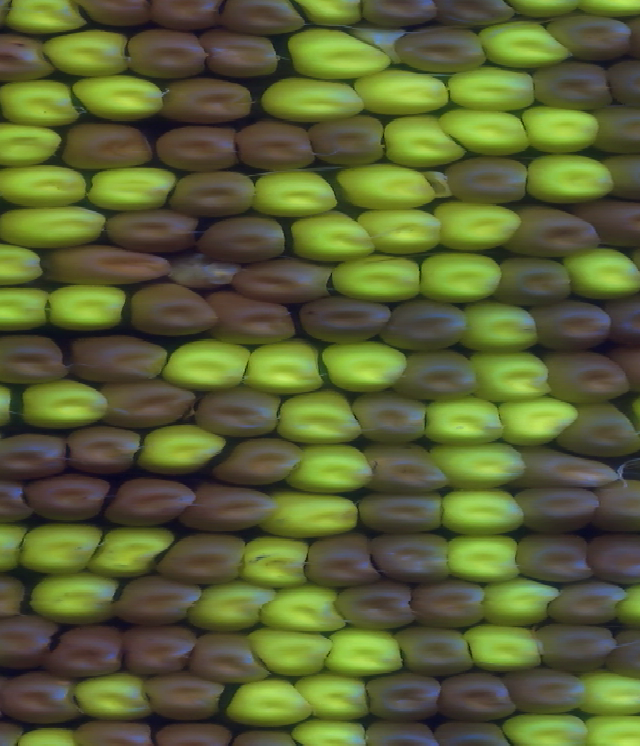fluorescent: (14, 380, 118, 434), (335, 159, 439, 212), (425, 437, 533, 488), (283, 209, 384, 263), (241, 337, 329, 396), (349, 206, 450, 255), (162, 335, 259, 386), (290, 28, 392, 76), (383, 114, 473, 168), (246, 169, 343, 219), (464, 621, 549, 678), (441, 106, 529, 161), (71, 72, 164, 124), (0, 205, 108, 249), (0, 158, 91, 210), (521, 154, 617, 203), (432, 200, 523, 251), (89, 525, 174, 579), (268, 486, 362, 534), (358, 68, 456, 114), (329, 252, 422, 300), (292, 443, 381, 493), (324, 340, 413, 390), (279, 394, 364, 446), (139, 424, 229, 473), (419, 248, 506, 298), (456, 300, 543, 350), (496, 395, 581, 446), (438, 493, 531, 539), (39, 286, 132, 332), (30, 571, 116, 620), (424, 396, 509, 445), (436, 532, 521, 581), (471, 350, 554, 400), (89, 167, 181, 212), (520, 105, 604, 154), (244, 533, 316, 589), (326, 626, 408, 675), (254, 626, 334, 676), (189, 582, 268, 632), (230, 681, 314, 728), (259, 584, 347, 628), (74, 675, 160, 719), (44, 34, 131, 77), (24, 525, 100, 574), (0, 76, 76, 125), (562, 246, 640, 293), (480, 578, 558, 625), (300, 674, 377, 721), (264, 78, 364, 114), (448, 70, 538, 109), (481, 24, 566, 64), (0, 121, 69, 169), (0, 280, 58, 337), (8, 1, 93, 34), (581, 671, 640, 715), (0, 244, 54, 292), (506, 714, 586, 746), (291, 1, 364, 32), (289, 717, 367, 746), (581, 714, 640, 746)
nonfluorescent: (178, 474, 276, 533), (203, 288, 302, 344), (157, 75, 262, 127), (108, 471, 195, 532), (66, 332, 173, 381), (394, 28, 494, 79), (213, 432, 303, 488), (510, 482, 605, 535), (110, 577, 208, 628), (228, 258, 336, 304), (103, 208, 213, 253), (503, 208, 598, 259), (133, 282, 228, 333), (436, 157, 527, 210), (356, 441, 452, 491), (49, 243, 172, 282), (230, 118, 324, 169), (530, 622, 617, 677), (193, 217, 296, 263), (527, 300, 618, 352), (553, 401, 639, 456), (393, 623, 479, 678), (104, 377, 194, 428), (143, 675, 232, 726), (333, 578, 418, 631), (530, 59, 616, 111), (23, 472, 108, 524), (63, 123, 161, 168), (514, 446, 618, 488), (122, 29, 211, 78), (545, 354, 635, 402), (46, 626, 129, 678), (513, 534, 597, 585), (162, 533, 244, 585), (381, 304, 468, 353), (200, 387, 287, 436), (0, 673, 83, 722), (371, 532, 452, 582), (189, 632, 271, 681), (205, 31, 282, 83), (353, 391, 431, 442), (354, 491, 453, 531), (153, 130, 252, 170), (493, 259, 584, 302), (125, 622, 196, 677), (296, 300, 393, 340), (170, 173, 258, 217), (434, 668, 513, 717), (543, 582, 631, 625), (406, 581, 490, 626), (308, 120, 388, 167), (506, 669, 590, 713), (368, 668, 443, 717), (584, 194, 640, 257), (305, 539, 381, 585), (398, 355, 479, 397), (0, 613, 63, 667), (0, 333, 68, 383), (581, 528, 640, 585), (66, 426, 136, 474), (549, 18, 634, 57), (221, 1, 313, 37), (0, 435, 70, 481), (0, 32, 58, 84), (363, 717, 443, 746), (595, 104, 640, 155), (66, 723, 165, 746), (598, 153, 640, 205), (600, 479, 640, 533), (603, 295, 640, 349), (78, 1, 166, 23), (155, 1, 227, 27), (441, 1, 516, 25), (367, 1, 440, 25), (0, 478, 37, 523), (608, 60, 640, 111), (608, 630, 640, 679), (435, 725, 507, 746), (228, 726, 294, 746)
